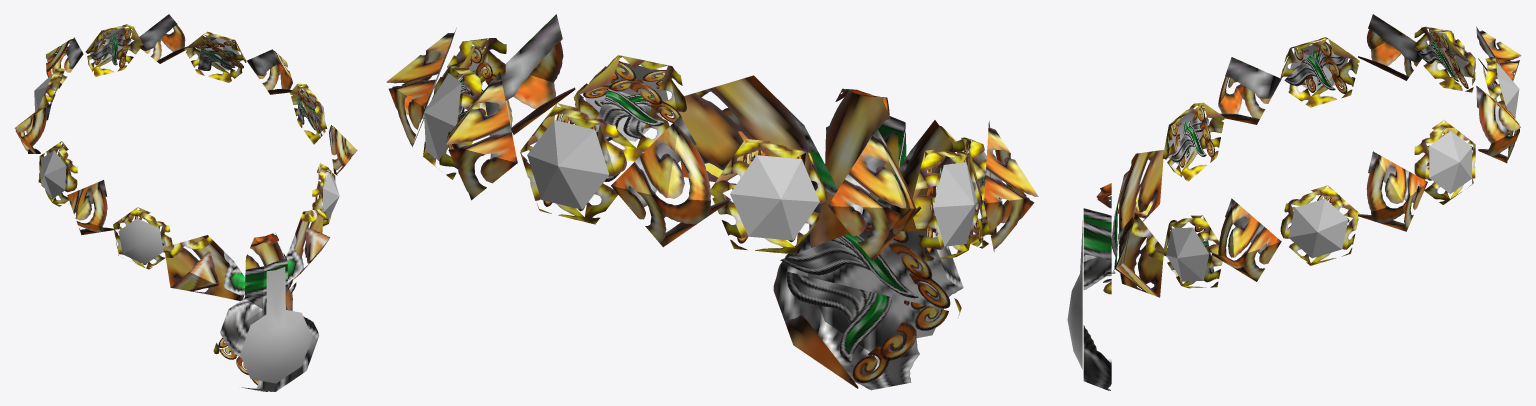
File: 115-lanbaoshixianglian.FBX
3 renders of one model, left to right at view 1: azimuth 30°, elevation 25°; view 2: azimuth 150°, elevation 25°; view 3: azimuth 270°, elevation 25°, orthographic. The views are drawn at different scales.
Visible parts, largest first — view 1: 115; view 2: 115; view 3: 115.
Boxes of the visible parts, bbox=[...] form: 115: bbox=[14, 14, 357, 391]; 115: bbox=[386, 14, 1038, 390]; 115: bbox=[1067, 14, 1521, 390].
Bounding box in the file's own units: 70.07 × 62.16 × 76.72.
